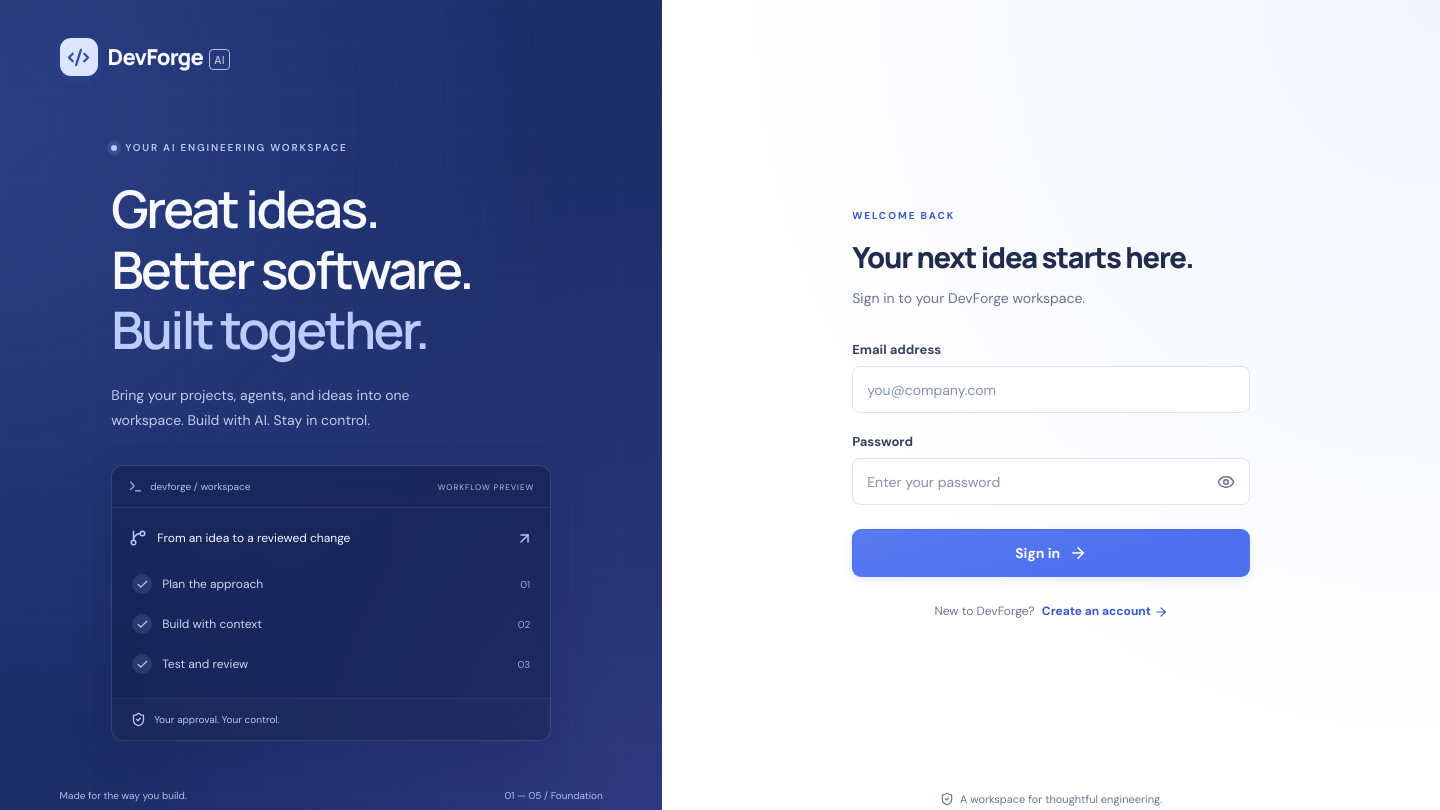
Test: auth forms and routes › validates empty fields and malformed email before sending requests
This screenshot has width=1440, height=810.
Click the button "Sign in" at (1051, 553), box [852, 529, 1250, 577]
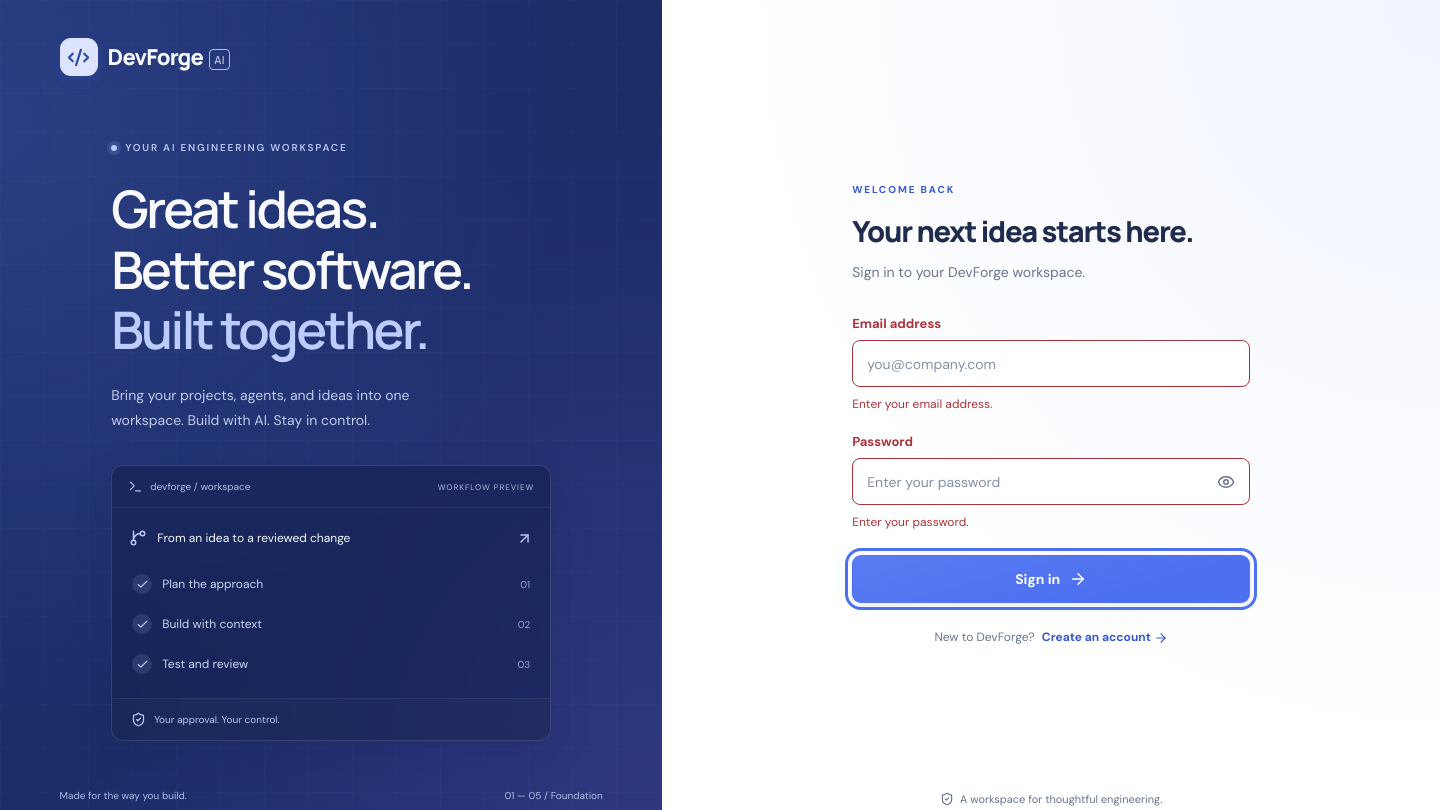
Check: the text "Enter your email address." is shown, box [852, 396, 992, 412]
Check: the text "Enter your password." is shown, box [852, 514, 969, 530]
Type "invalid" into the field labelled "Email address" at (1051, 364), box [852, 340, 1250, 387]
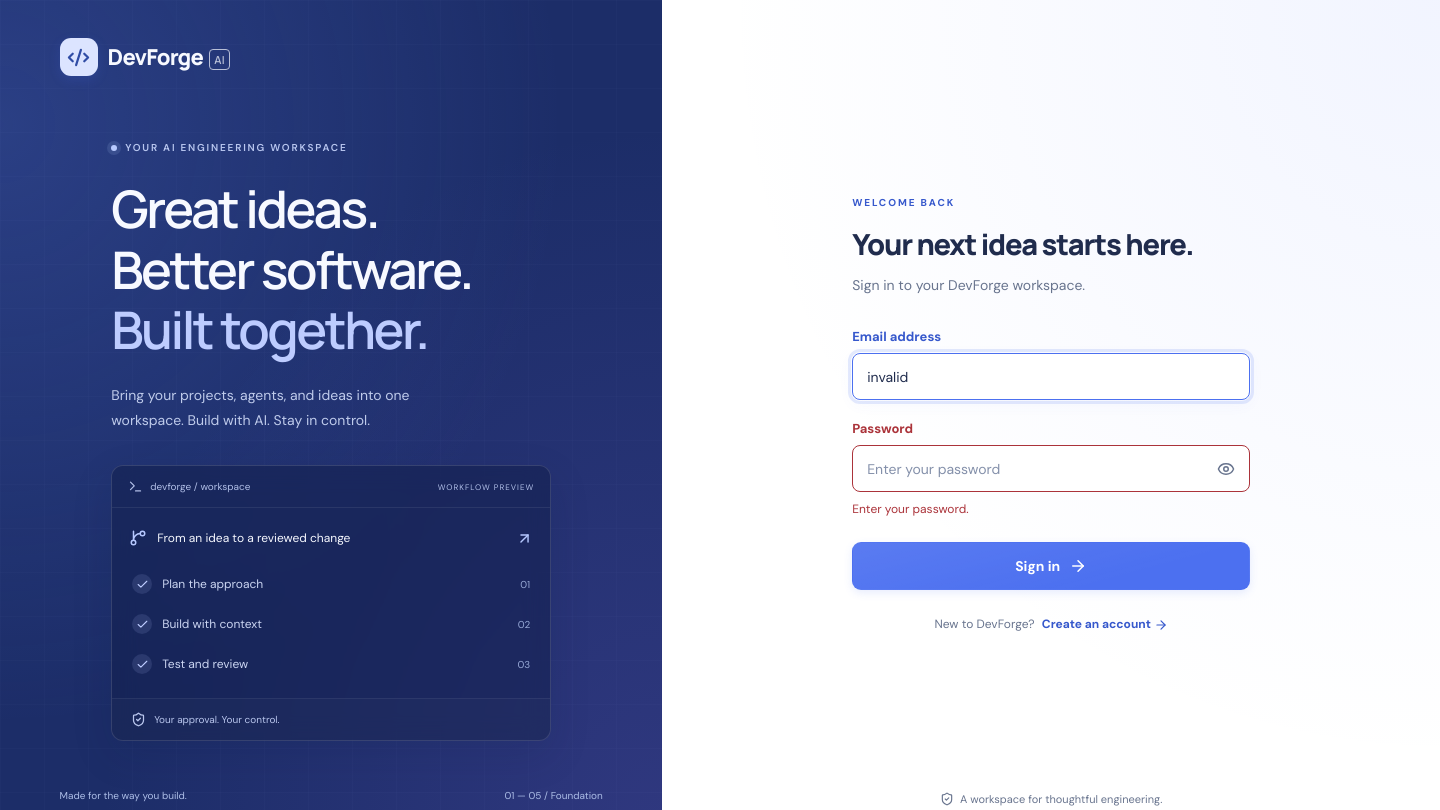
Click the button "Sign in" at (1051, 566), box [852, 542, 1250, 590]
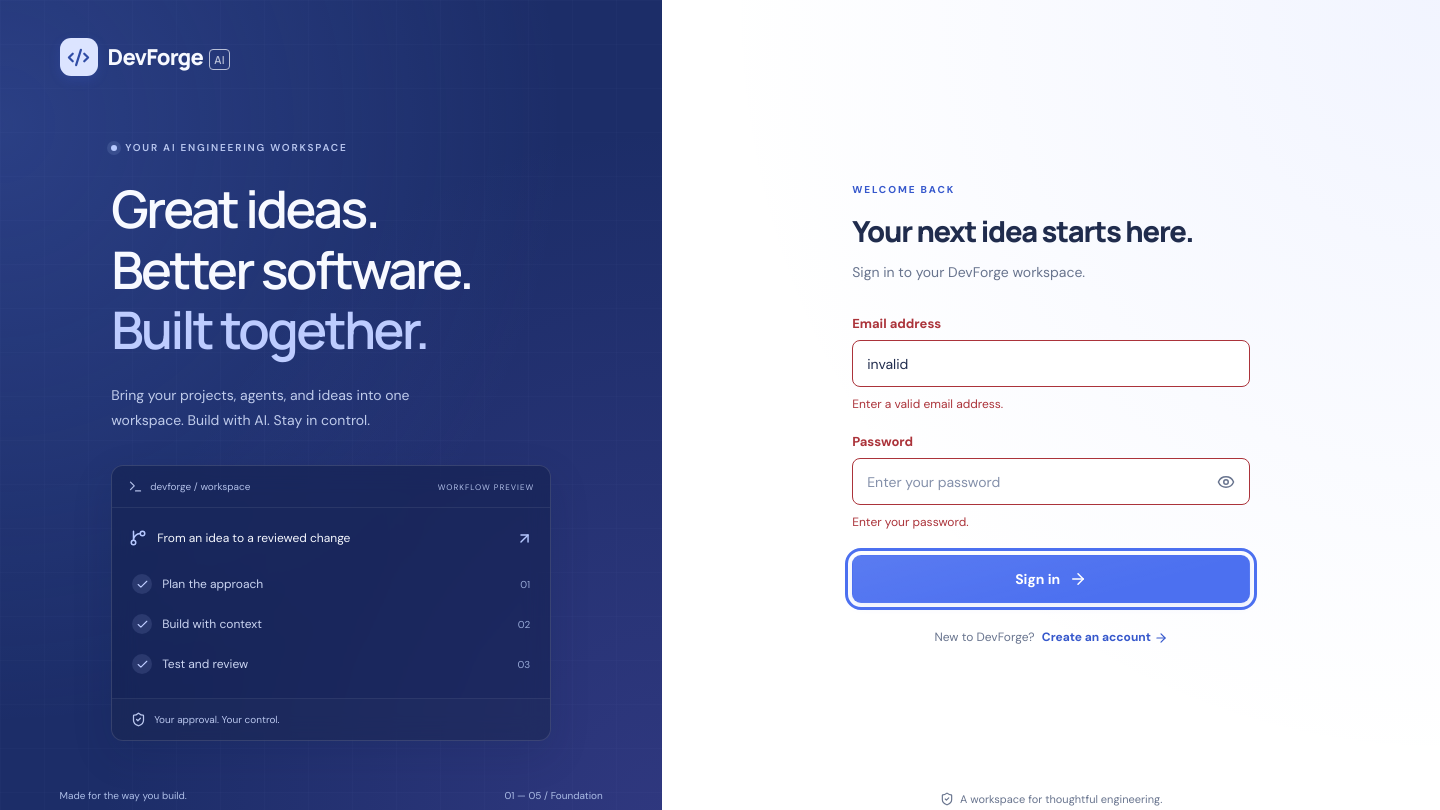
Check: the text "Enter a valid email address." is shown, box [852, 396, 1003, 412]
